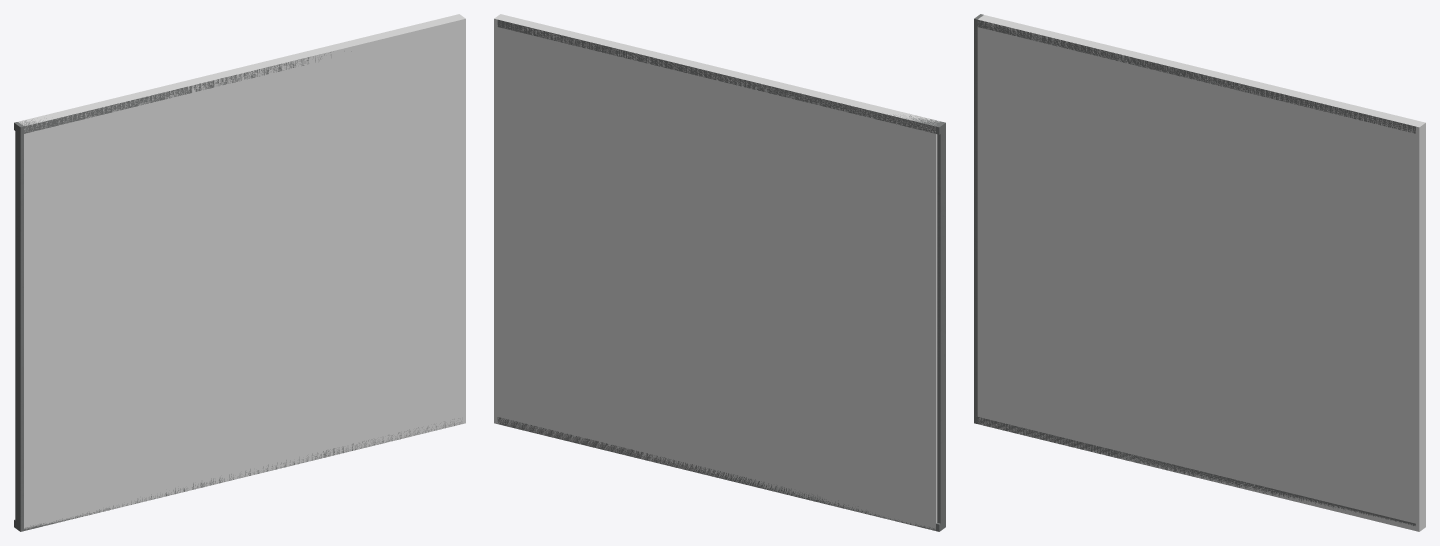
Rendered from SM_Glass_4x4.fbx.
3 views of the same model, side by side, from view 1: azimuth 30°, elevation 25°; view 2: azimuth 150°, elevation 25°; view 3: azimuth 330°, elevation 25° (orthographic).
Visible parts, largest first — view 1: SM_Glass_4x4_ConvexHulls, SM_Glass_4x4_LOD0; view 2: SM_Glass_4x4_ConvexHulls, SM_Glass_4x4_LOD0; view 3: SM_Glass_4x4_ConvexHulls, SM_Glass_4x4_LOD0.
Part boxes in pixels (x1,y1,x2,y2): SM_Glass_4x4_ConvexHulls: (18, 14, 465, 529); SM_Glass_4x4_LOD0: (14, 51, 461, 531); SM_Glass_4x4_ConvexHulls: (494, 14, 939, 530); SM_Glass_4x4_LOD0: (497, 19, 945, 531); SM_Glass_4x4_ConvexHulls: (977, 15, 1425, 531); SM_Glass_4x4_LOD0: (974, 14, 1415, 525).
Bounding box in the file's own units: 403 × 10.13 × 350.
Materials: 2 (2 with a texture image).
